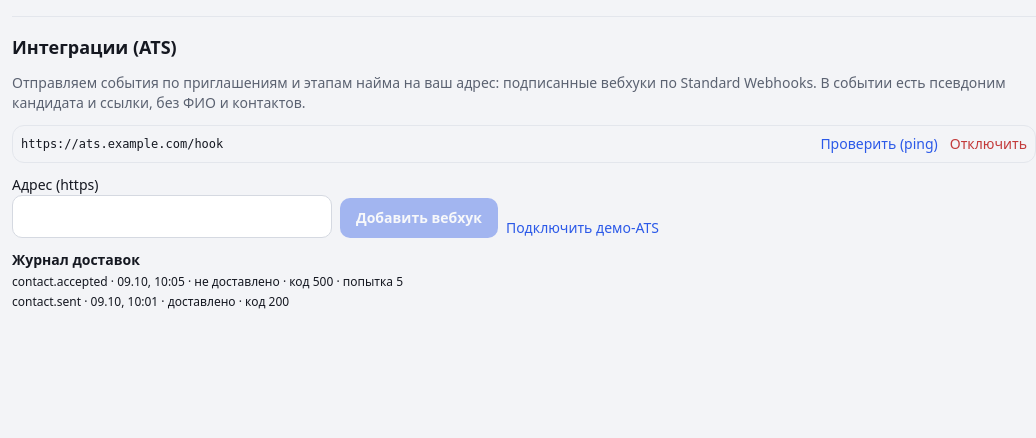
integrations (ATS) › creates a webhook and shows the secret once with a warning
Type "https://ats.example.com/hook" into the field labelled "Адрес (https)" at (172, 217), box [12, 195, 332, 238]
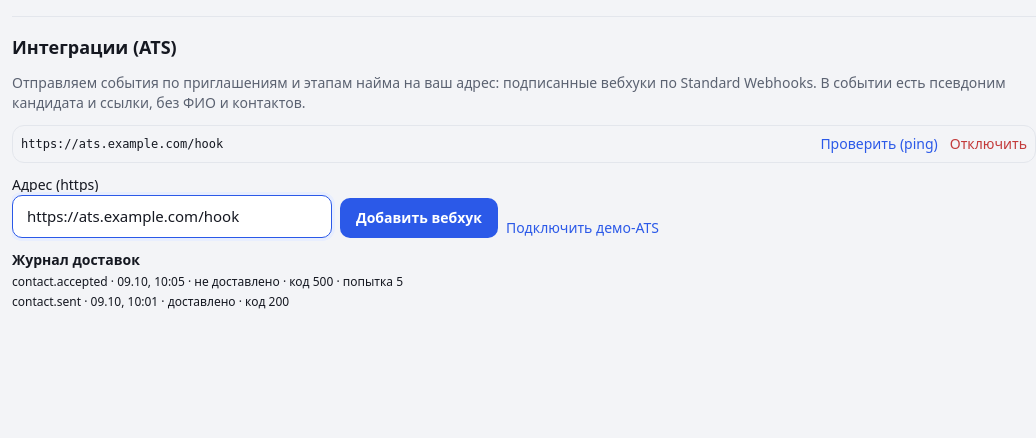
Click the button "Добавить вебхук" at (419, 218), box [340, 198, 498, 238]
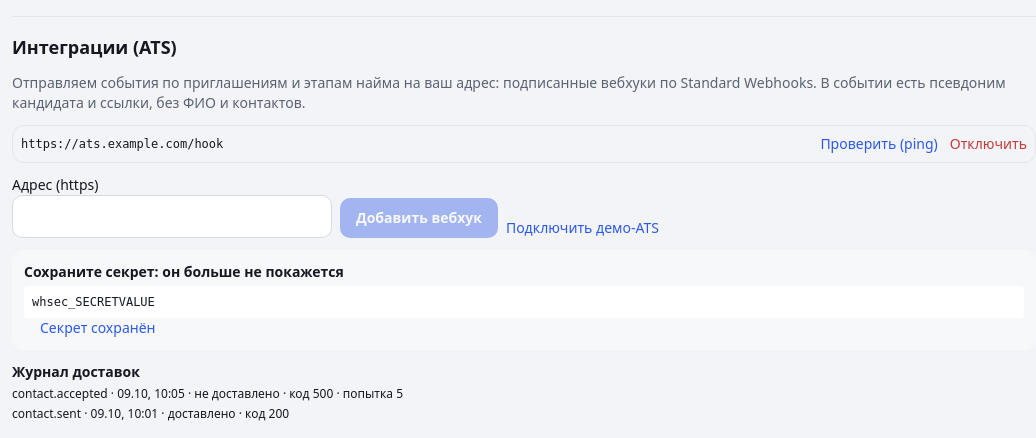
Now the text "whsec_SECRETVALUE" is shown, box [24, 286, 1024, 318]
Now the text "Сохраните секрет: он больше не покажется" is shown, box [24, 262, 344, 281]
Click the button "Секрет сохранён" at (98, 328), box [40, 318, 156, 338]
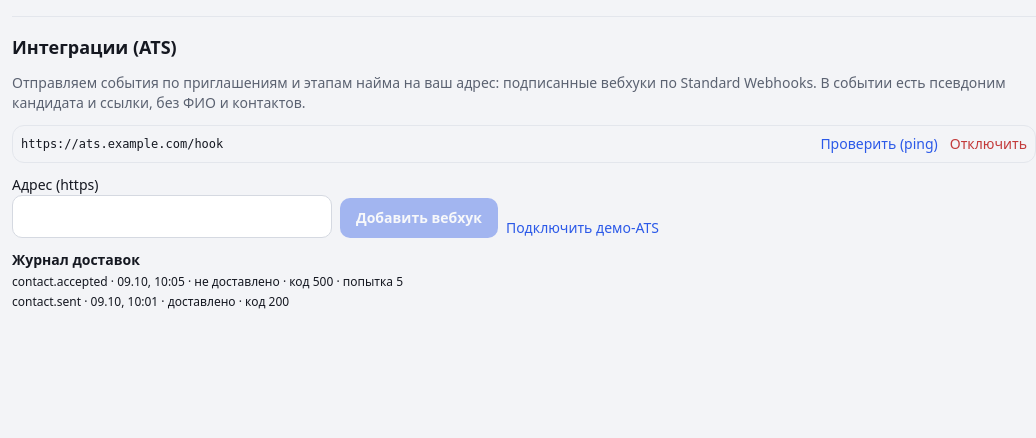
Now the text "whsec_SECRETVALUE" is gone
